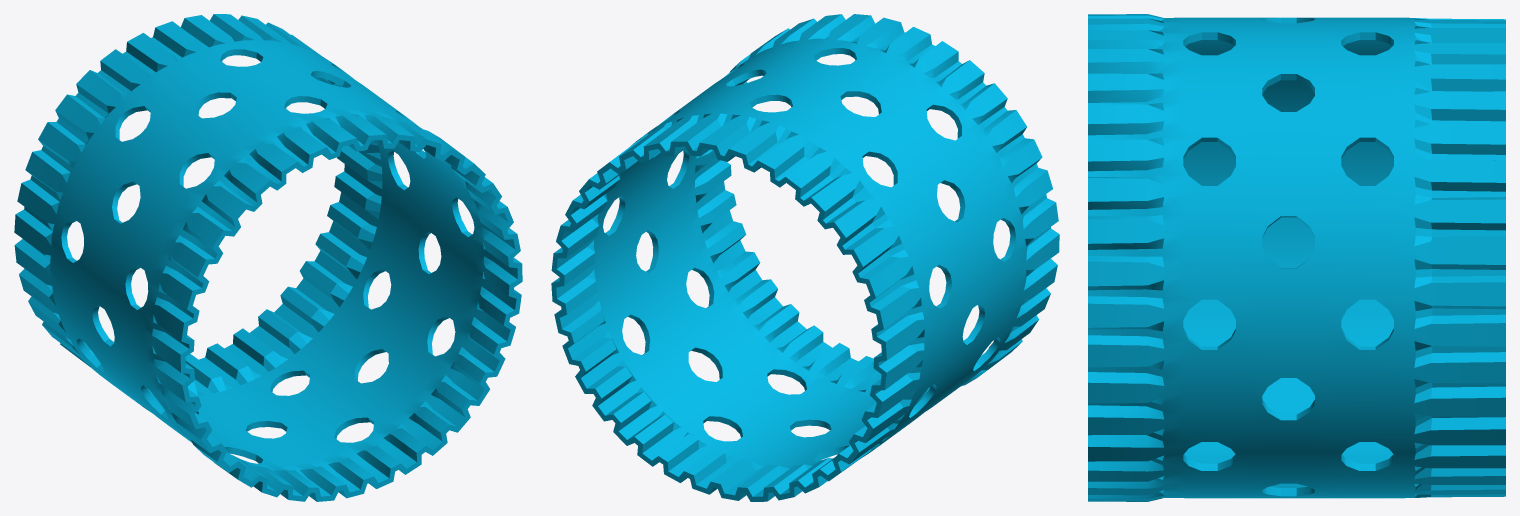
3 renders of one model, left to right at view 1: azimuth 30°, elevation 25°; view 2: azimuth 150°, elevation 25°; view 3: azimuth 270°, elevation 25°, orthographic. The views are drawn at different scales.
Visible parts, largest first — view 1: 669; view 2: 669; view 3: 669.
Boxes of the visible parts, left/top/right/bottom form: 669: left=14, top=14, right=522, bottom=501; 669: left=551, top=14, right=1059, bottom=501; 669: left=1088, top=14, right=1505, bottom=501.
Size of the model in its own units: 1483 by 1483 by 1270.
